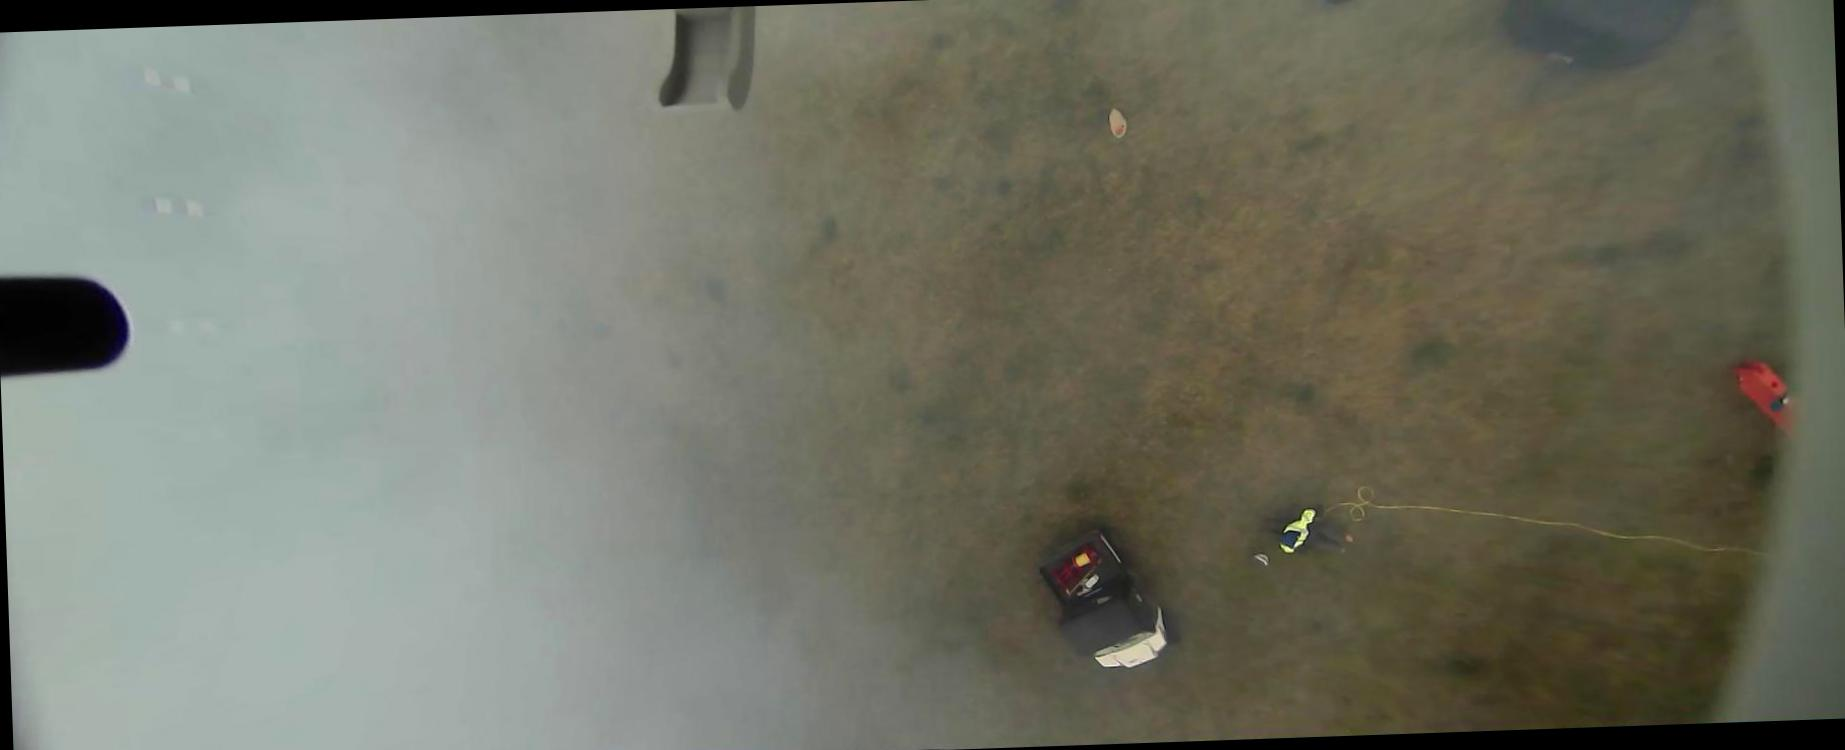vehicle: (1032, 522, 1184, 673), (1498, 0, 1725, 79)
